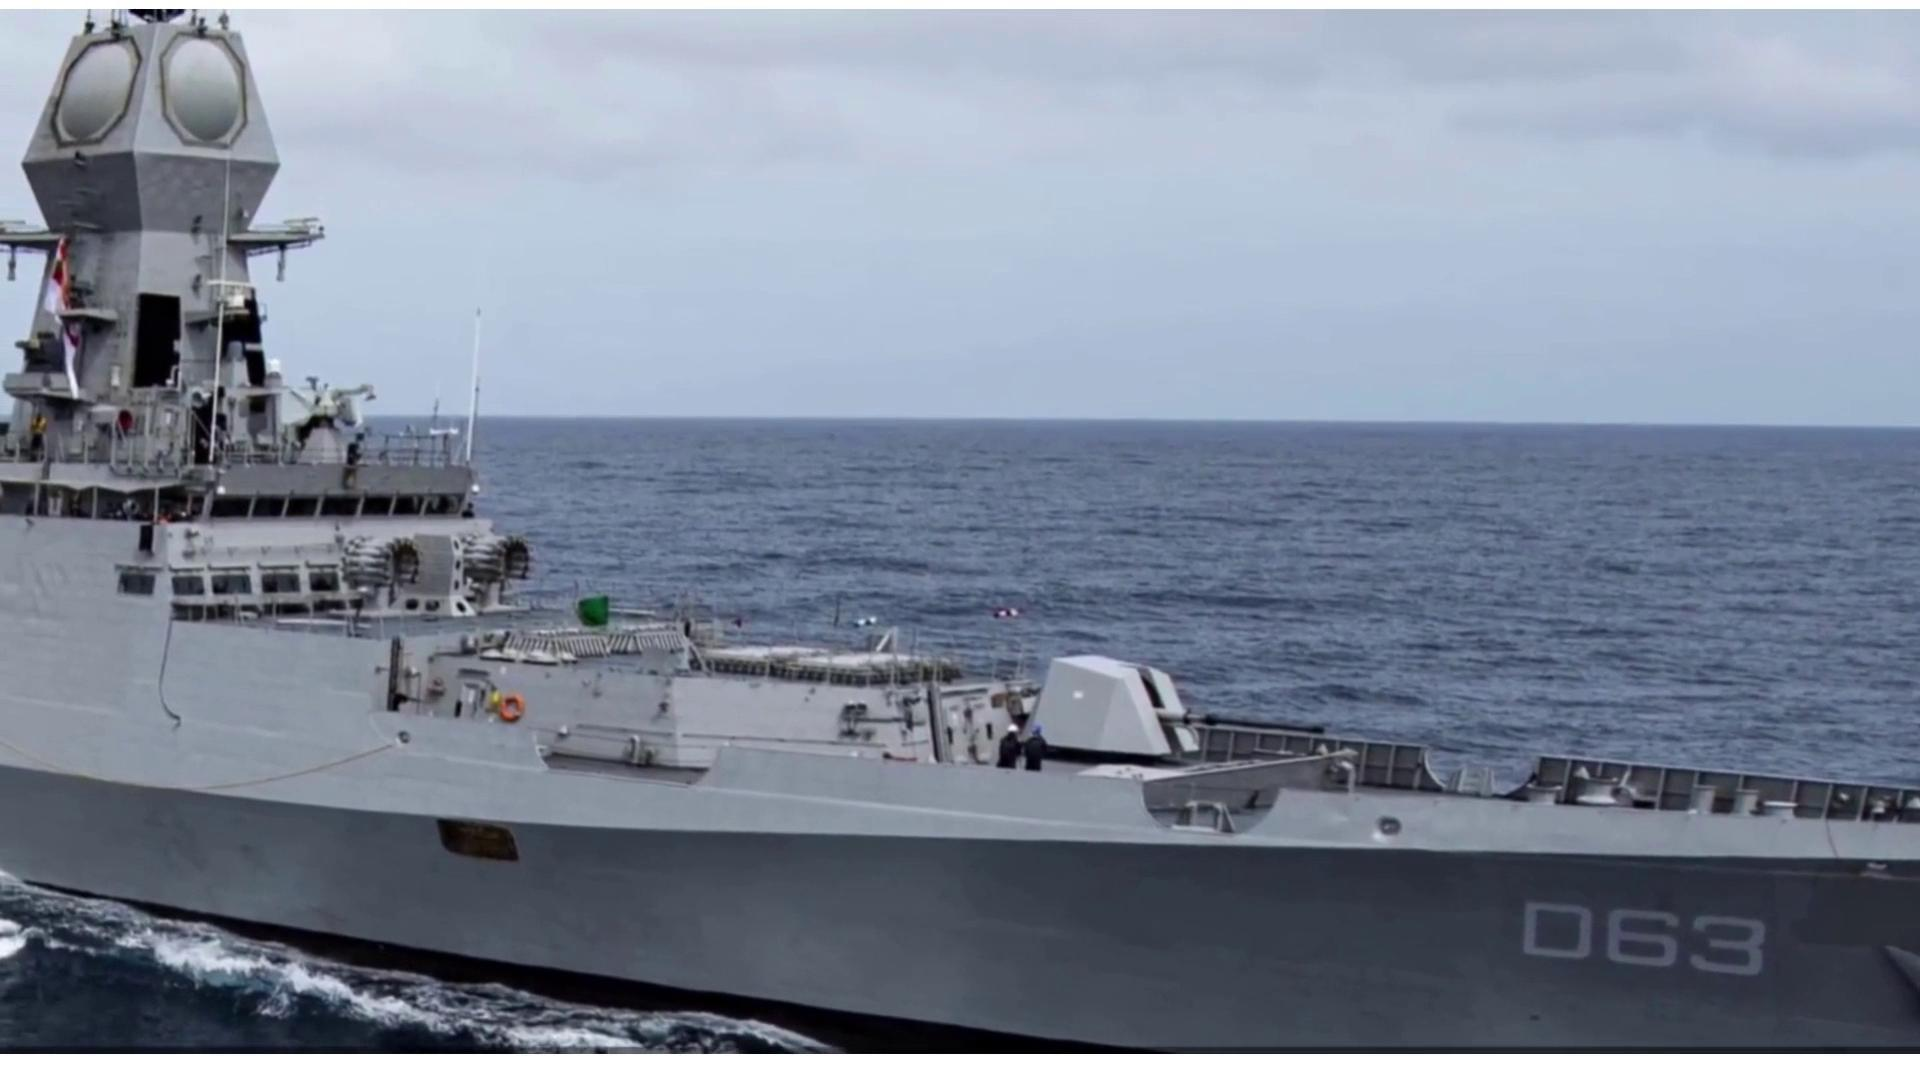OCR: (1507, 887, 1776, 990)
